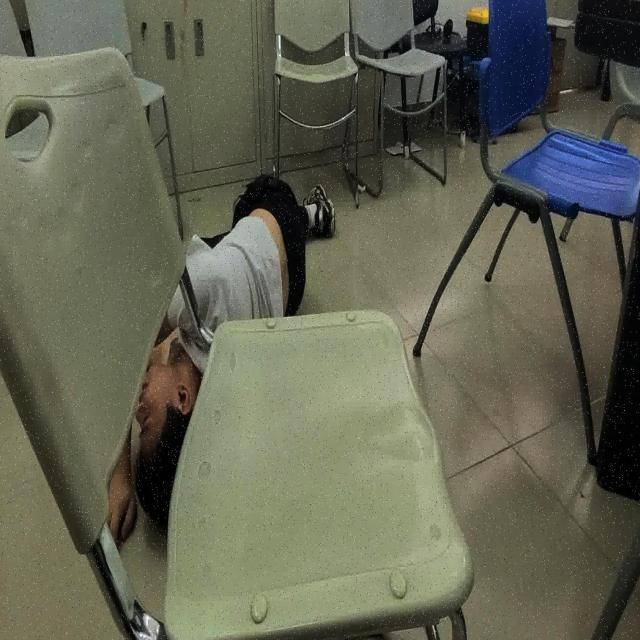fall: (99, 169, 337, 553)
